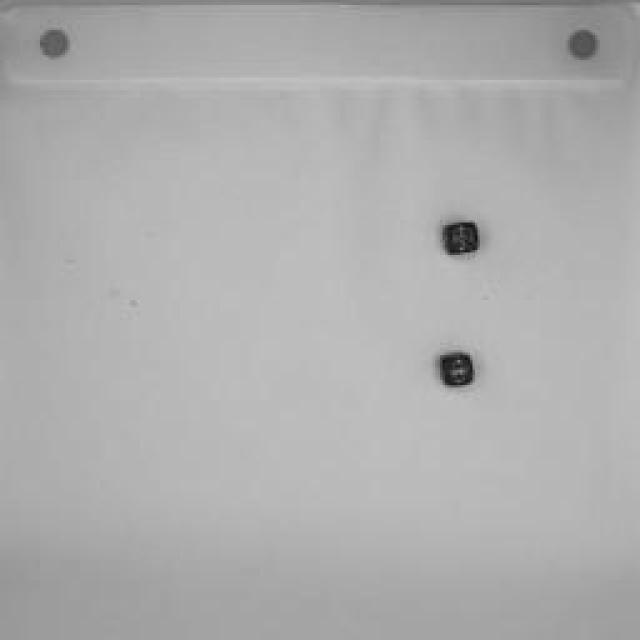dice_4: (445, 220, 480, 258)
dice_6: (438, 351, 474, 389)
